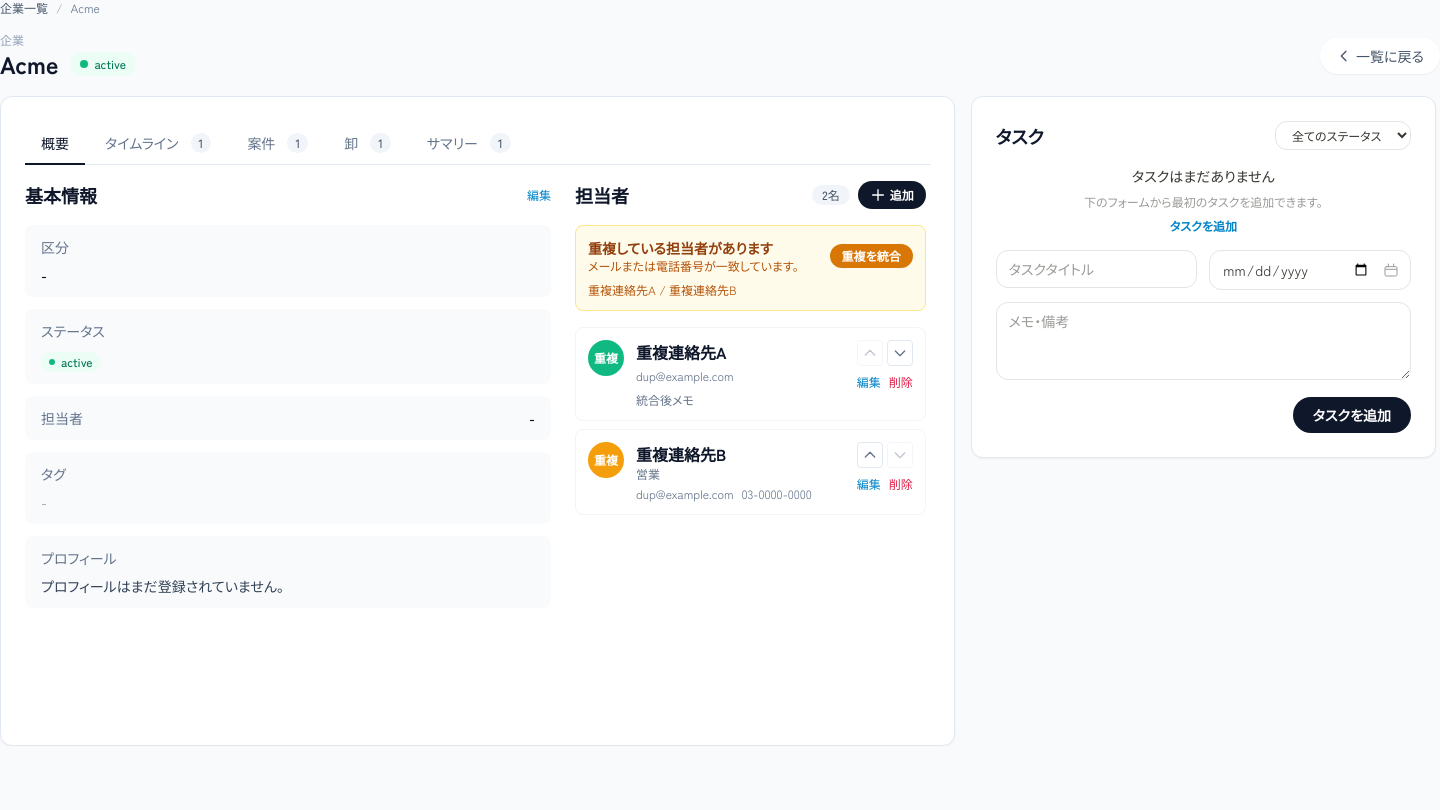
Test: 企業詳細ページ › 重複連絡先の統合で重複データを削除し統合後データを保持する
Check: the heading "Acme" is shown, box [0,48,58,80]
Click the button "概要" at x=55, y=143, box [25,121,85,165]
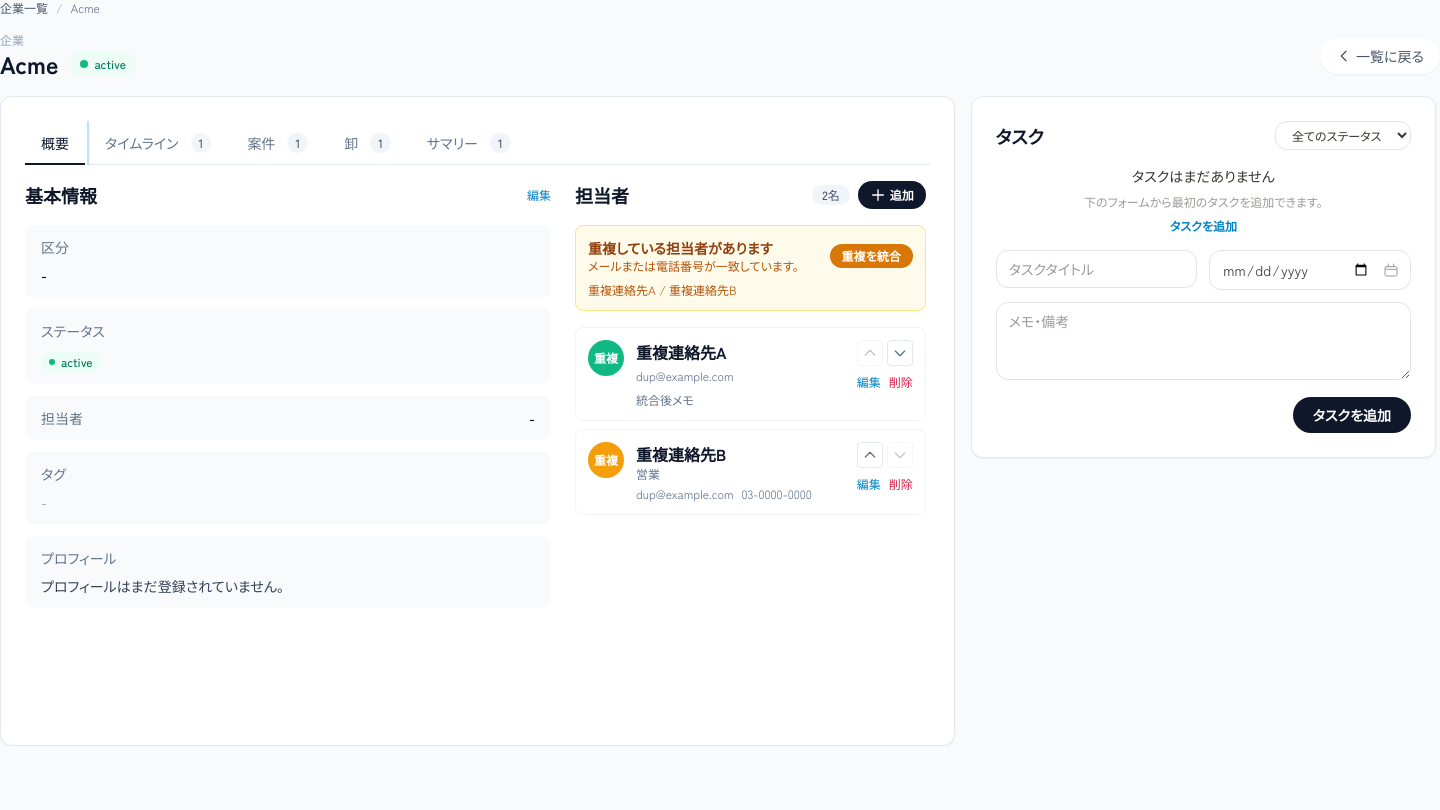
Check: the text "重複している担当者があります" is shown, box [588,238,799,258]
Click the button "重複を統合" at x=871, y=256, box [830,244,913,268]
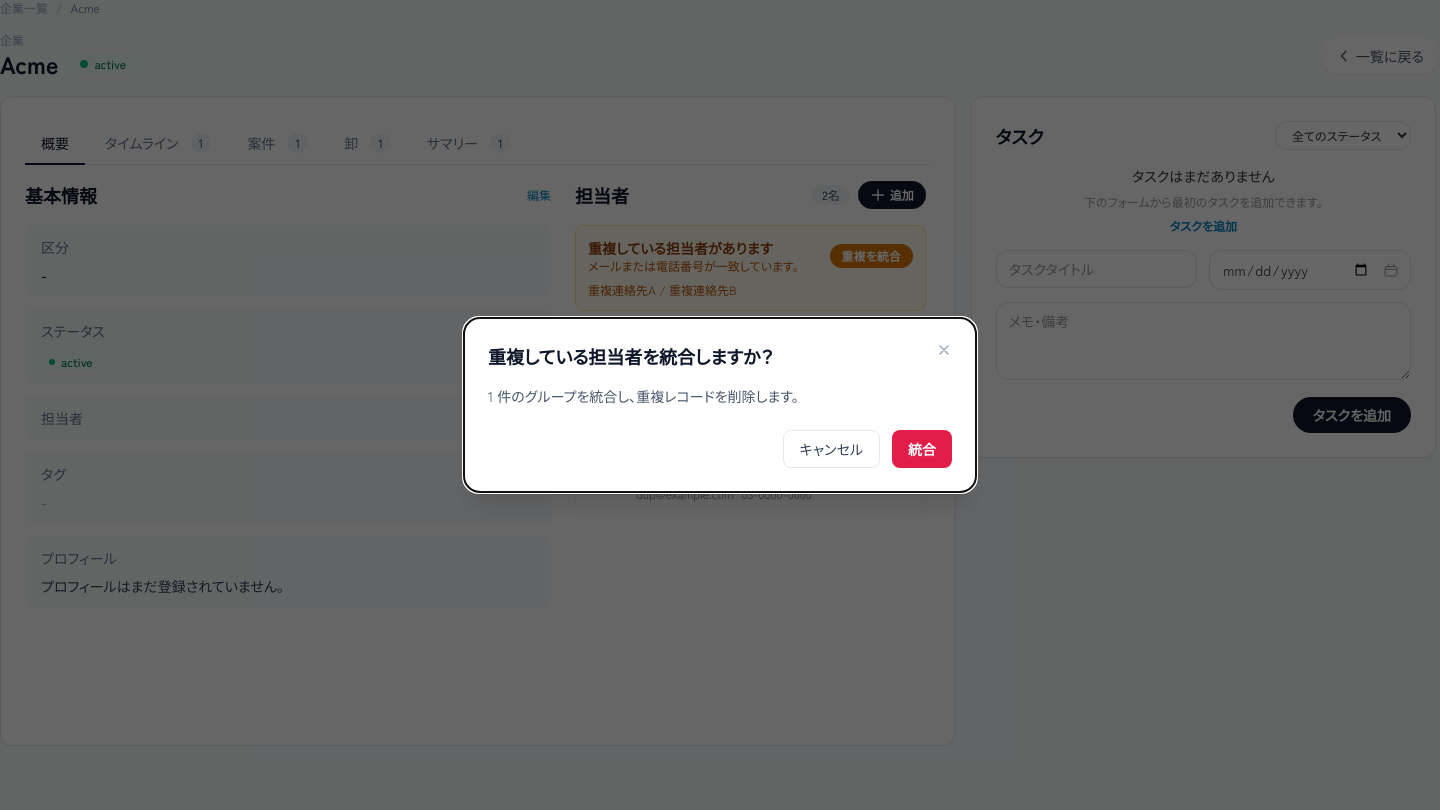
Click the button "統合" at x=922, y=449, box [892,430,952,468]
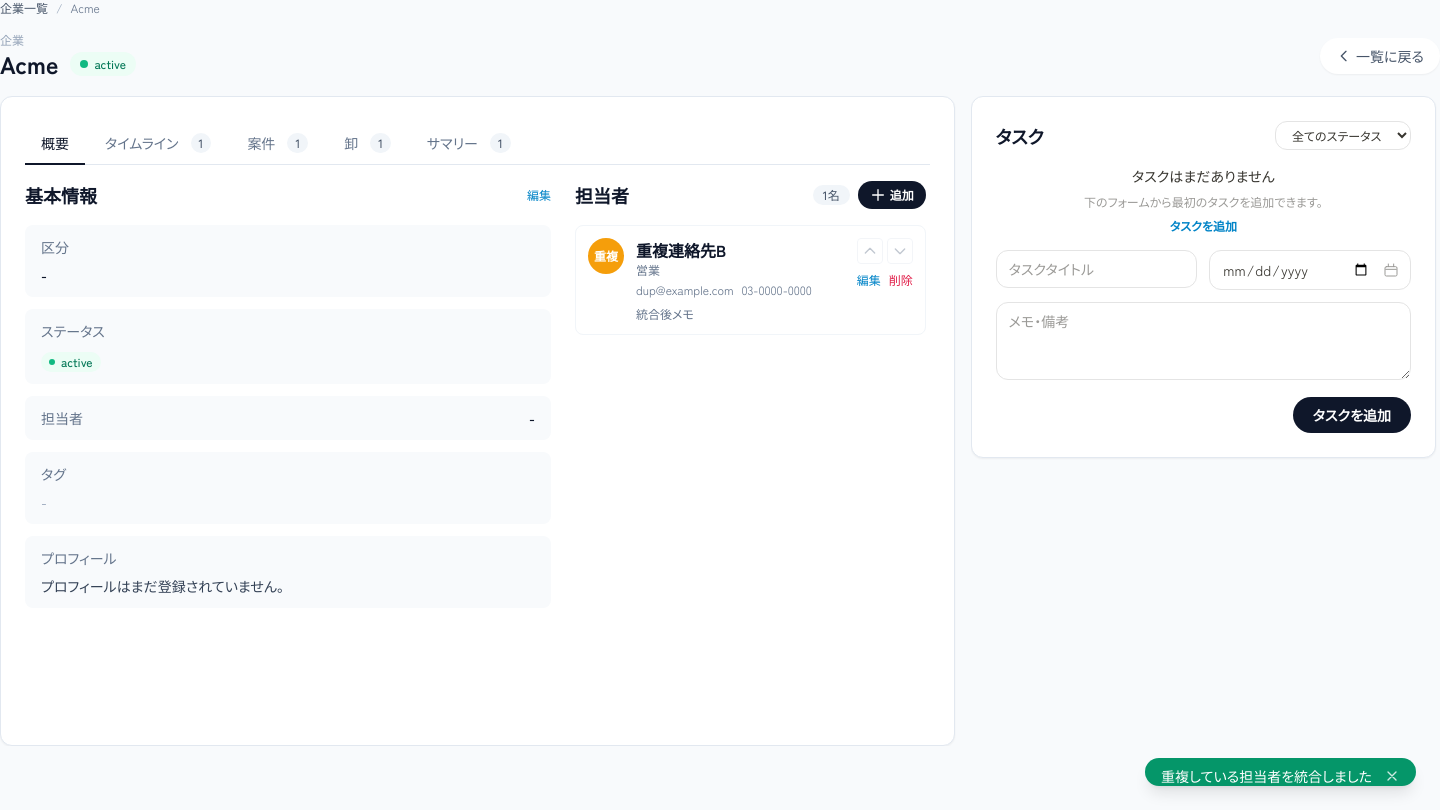
Check: the text "重複連絡先B" is shown, box [636,238,726,262]
Check: the text "重複している担当者を統合しました" is shown, box [1161,766,1372,786]
Check: the list item "重複連絡先A" is gone
